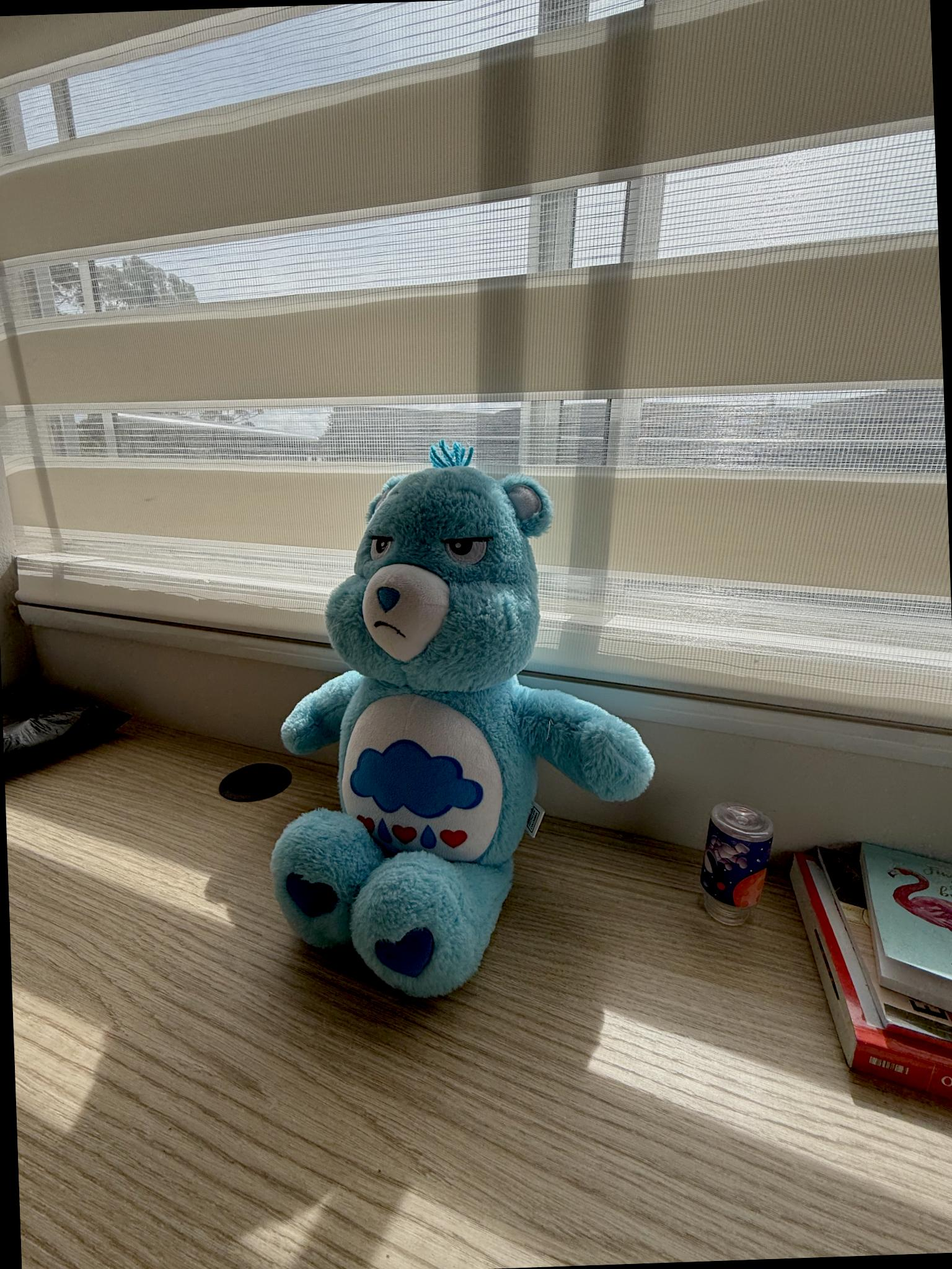peluche_Juan Jose: (271, 450, 641, 1011)
